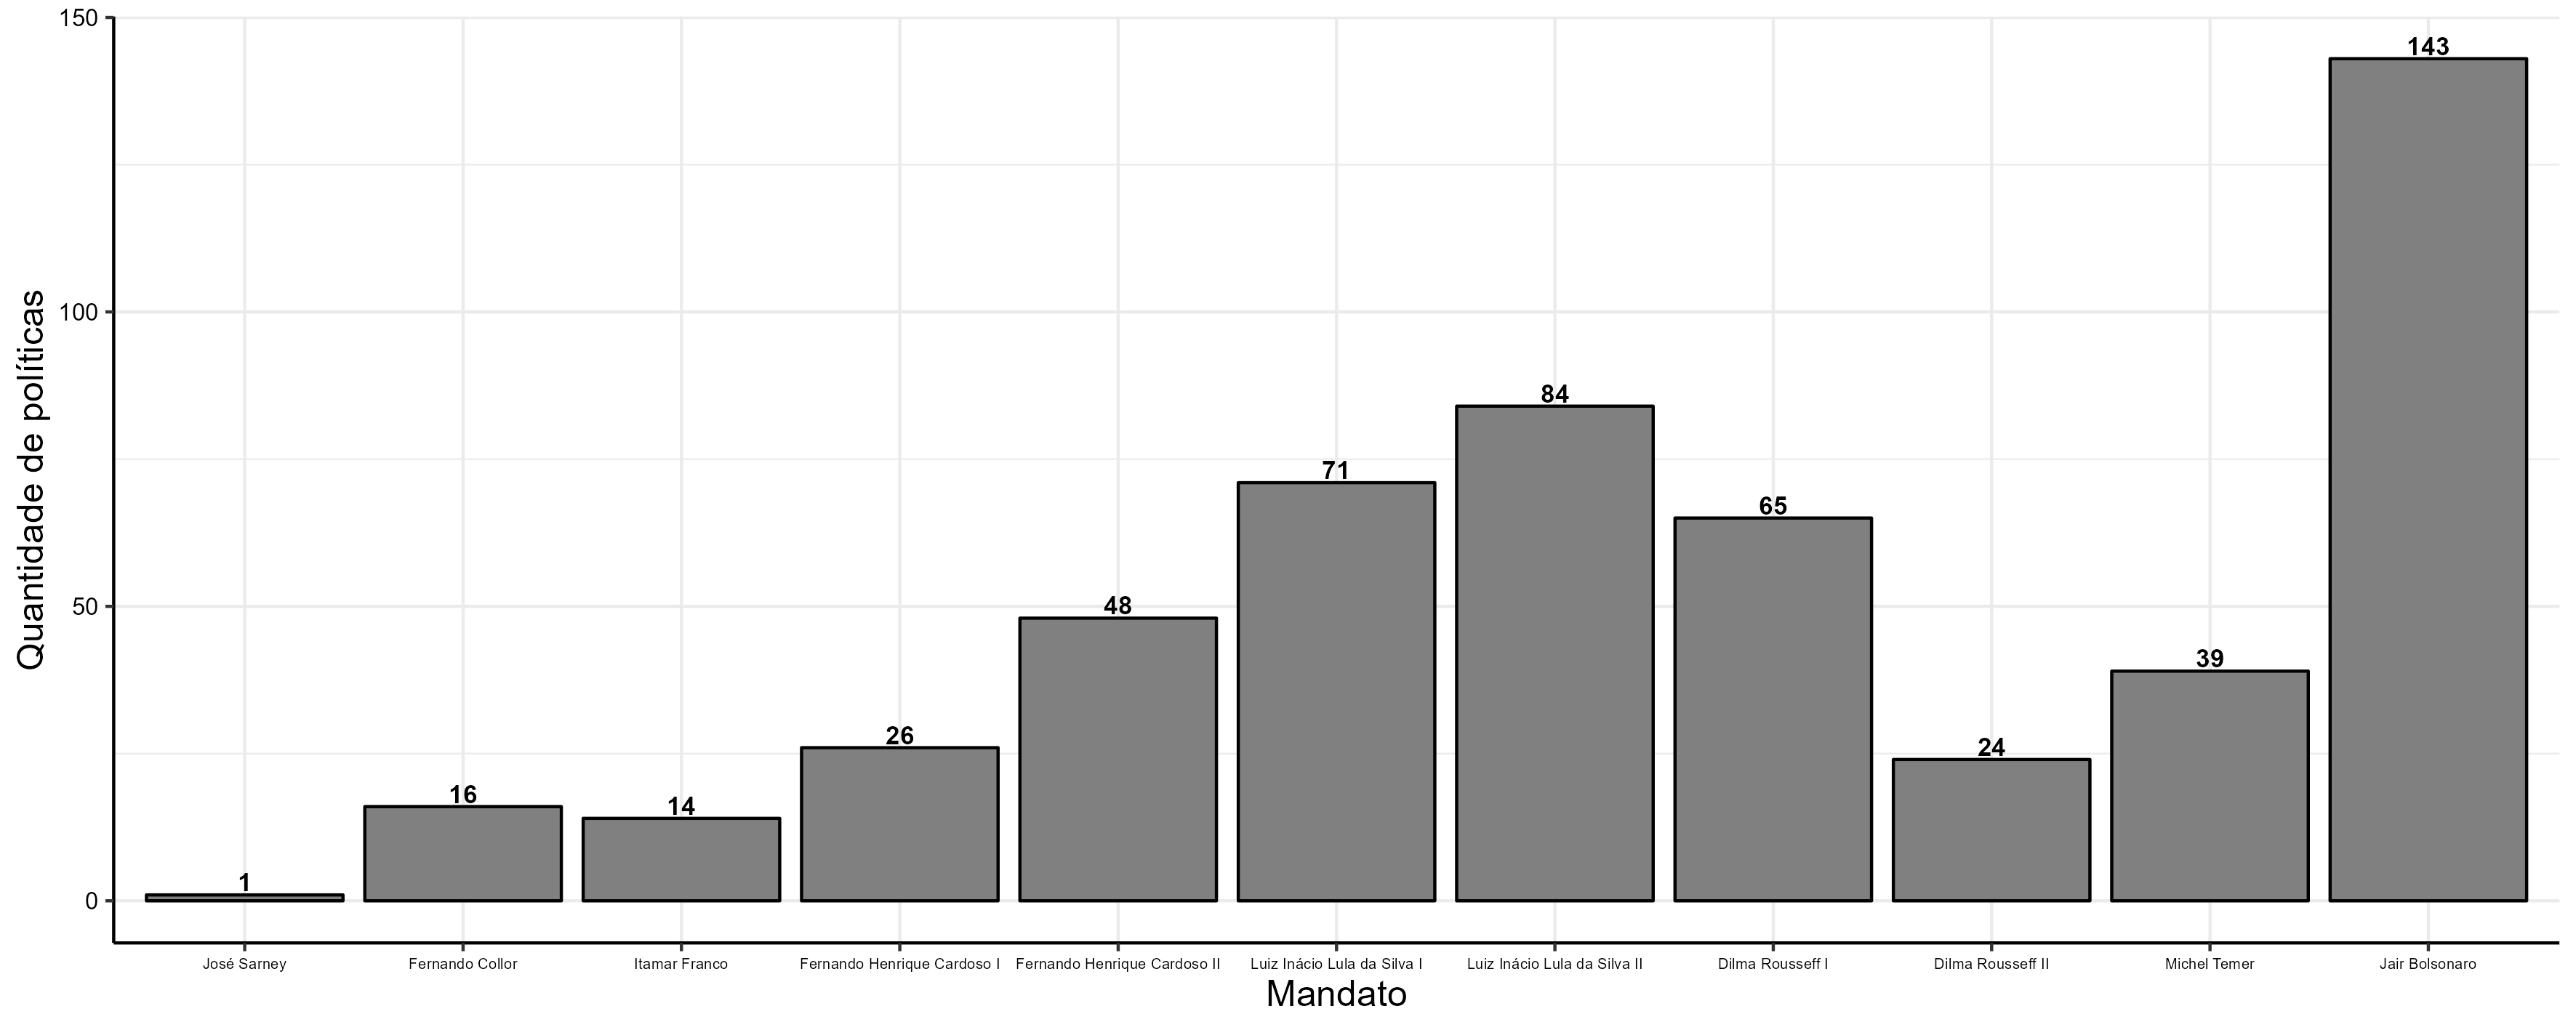

The page's visual inventory and layout, read from the dashboard file:
{"tool":"powerbi","page":{"name":"Gráfico de barras","canvas":[1280,720],"ordinal":2},"visuals":[{"type":"clusteredColumnChart","fields":{"Category":["Políticas.Mandato"],"Y":["CountNonNull(Políticas.Política)"]},"box":[169.2,239.3,940.5,291.8],"z":0}]}

Visuals, with their boxes on the page's 1280x720 design canvas (x1, y1, x2, y2). These are canvas units, not pixel positions in the 2576x1030 screenshot, which may show the page scaled, cropped or inside an application window:
clusteredColumnChart - Políticas.Mandato x CountNonNull(Políticas.Política): crop(169, 239, 1110, 531)
